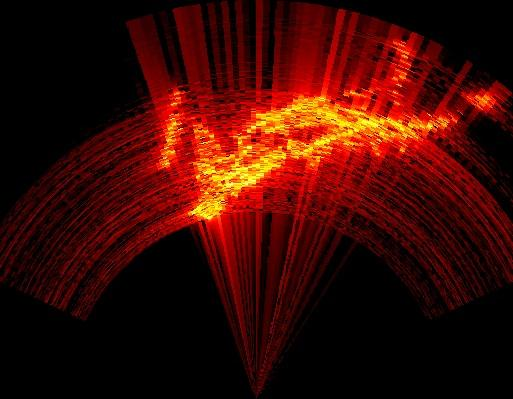shipwreck: (191, 97, 447, 218), (162, 95, 184, 165)
